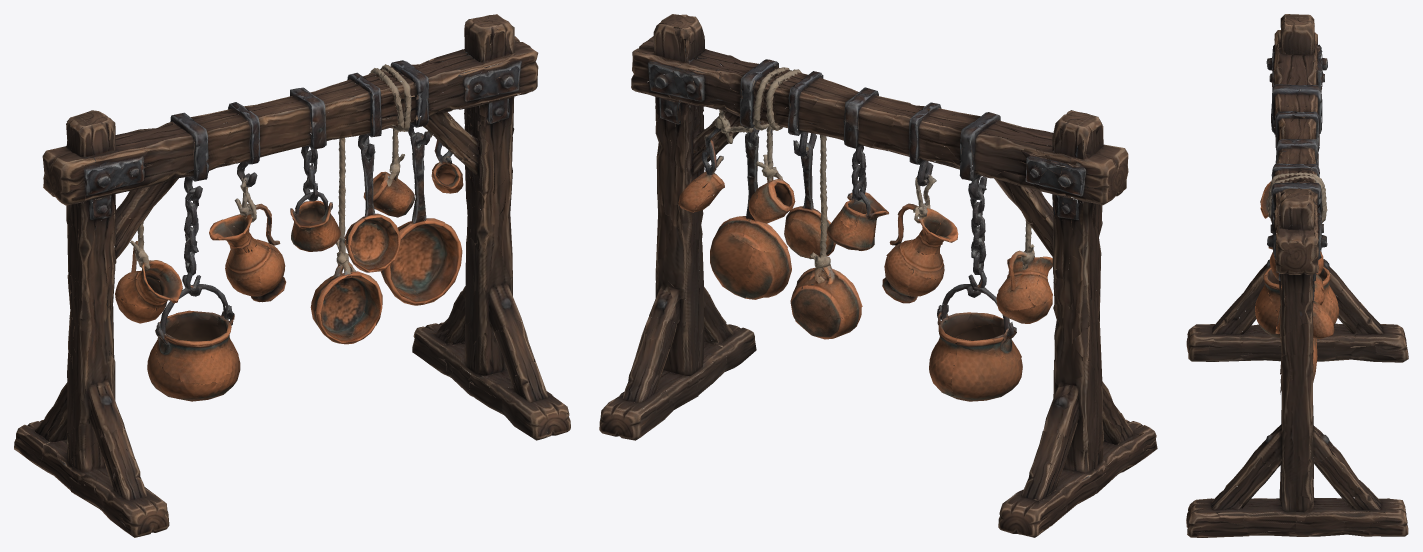
File: PotRack.fbx
The picture shows the model from 3 angles, left to right: view 1: azimuth 30°, elevation 25°; view 2: azimuth 150°, elevation 25°; view 3: azimuth 270°, elevation 25°; orthographic projection. The views are drawn at different scales.
Visible parts, largest first — view 1: PotRack.004; view 2: PotRack.004; view 3: PotRack.004.
Boxes of the visible parts, x1,y1,x2,y2 form: PotRack.004: (14, 14, 570, 537); PotRack.004: (599, 14, 1157, 537); PotRack.004: (1186, 14, 1408, 537).
Size of the model in its own units: 3.08 by 2.3 by 1.38.
1 material, 1 textured.
